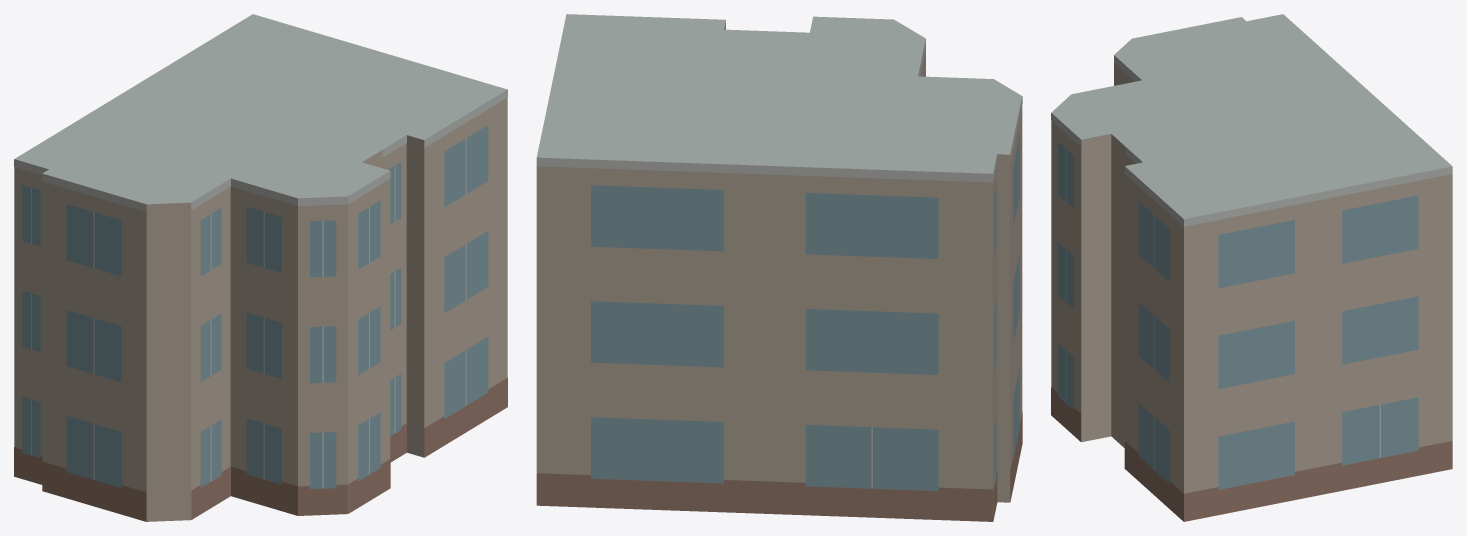
Rendered from survey-upis-32736627.glb.
3 renders of one model, left to right at view 1: azimuth 30°, elevation 25°; view 2: azimuth 150°, elevation 25°; view 3: azimuth 270°, elevation 25°, orthographic. The views are drawn at different scales.
Parts seen in each view (by area): view 1: survey-upis-32736627.tmp; view 2: survey-upis-32736627.tmp; view 3: survey-upis-32736627.tmp.
Boxes of the visible parts, bbox=[...] form: survey-upis-32736627.tmp: bbox=[14, 14, 507, 521]; survey-upis-32736627.tmp: bbox=[536, 14, 1022, 521]; survey-upis-32736627.tmp: bbox=[1051, 14, 1452, 521].
Size of the model in its own units: 14.27 by 9.8 by 11.8.
